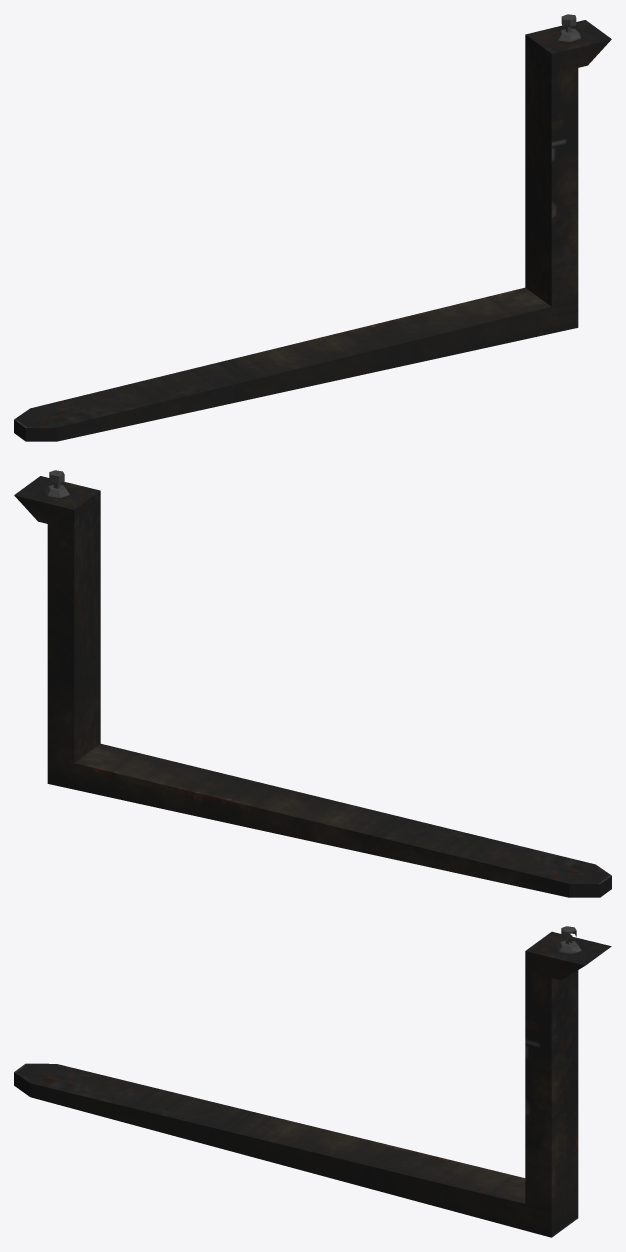
The model's file is fork_correct_scale.dae.
3 views of the same model, one above another, from view 1: azimuth 30°, elevation 25°; view 2: azimuth 150°, elevation 25°; view 3: azimuth 330°, elevation 25° (orthographic).
Parts seen in each view (by area): view 1: fork; view 2: fork; view 3: fork.
Boxes of the visible parts, x1,y1,x2,y2 form: fork: (14, 14, 611, 441); fork: (14, 470, 611, 897); fork: (14, 926, 611, 1237).
Size of the model in its own units: 1.05 by 0.0834 by 0.5209.
1 material, 1 textured.
